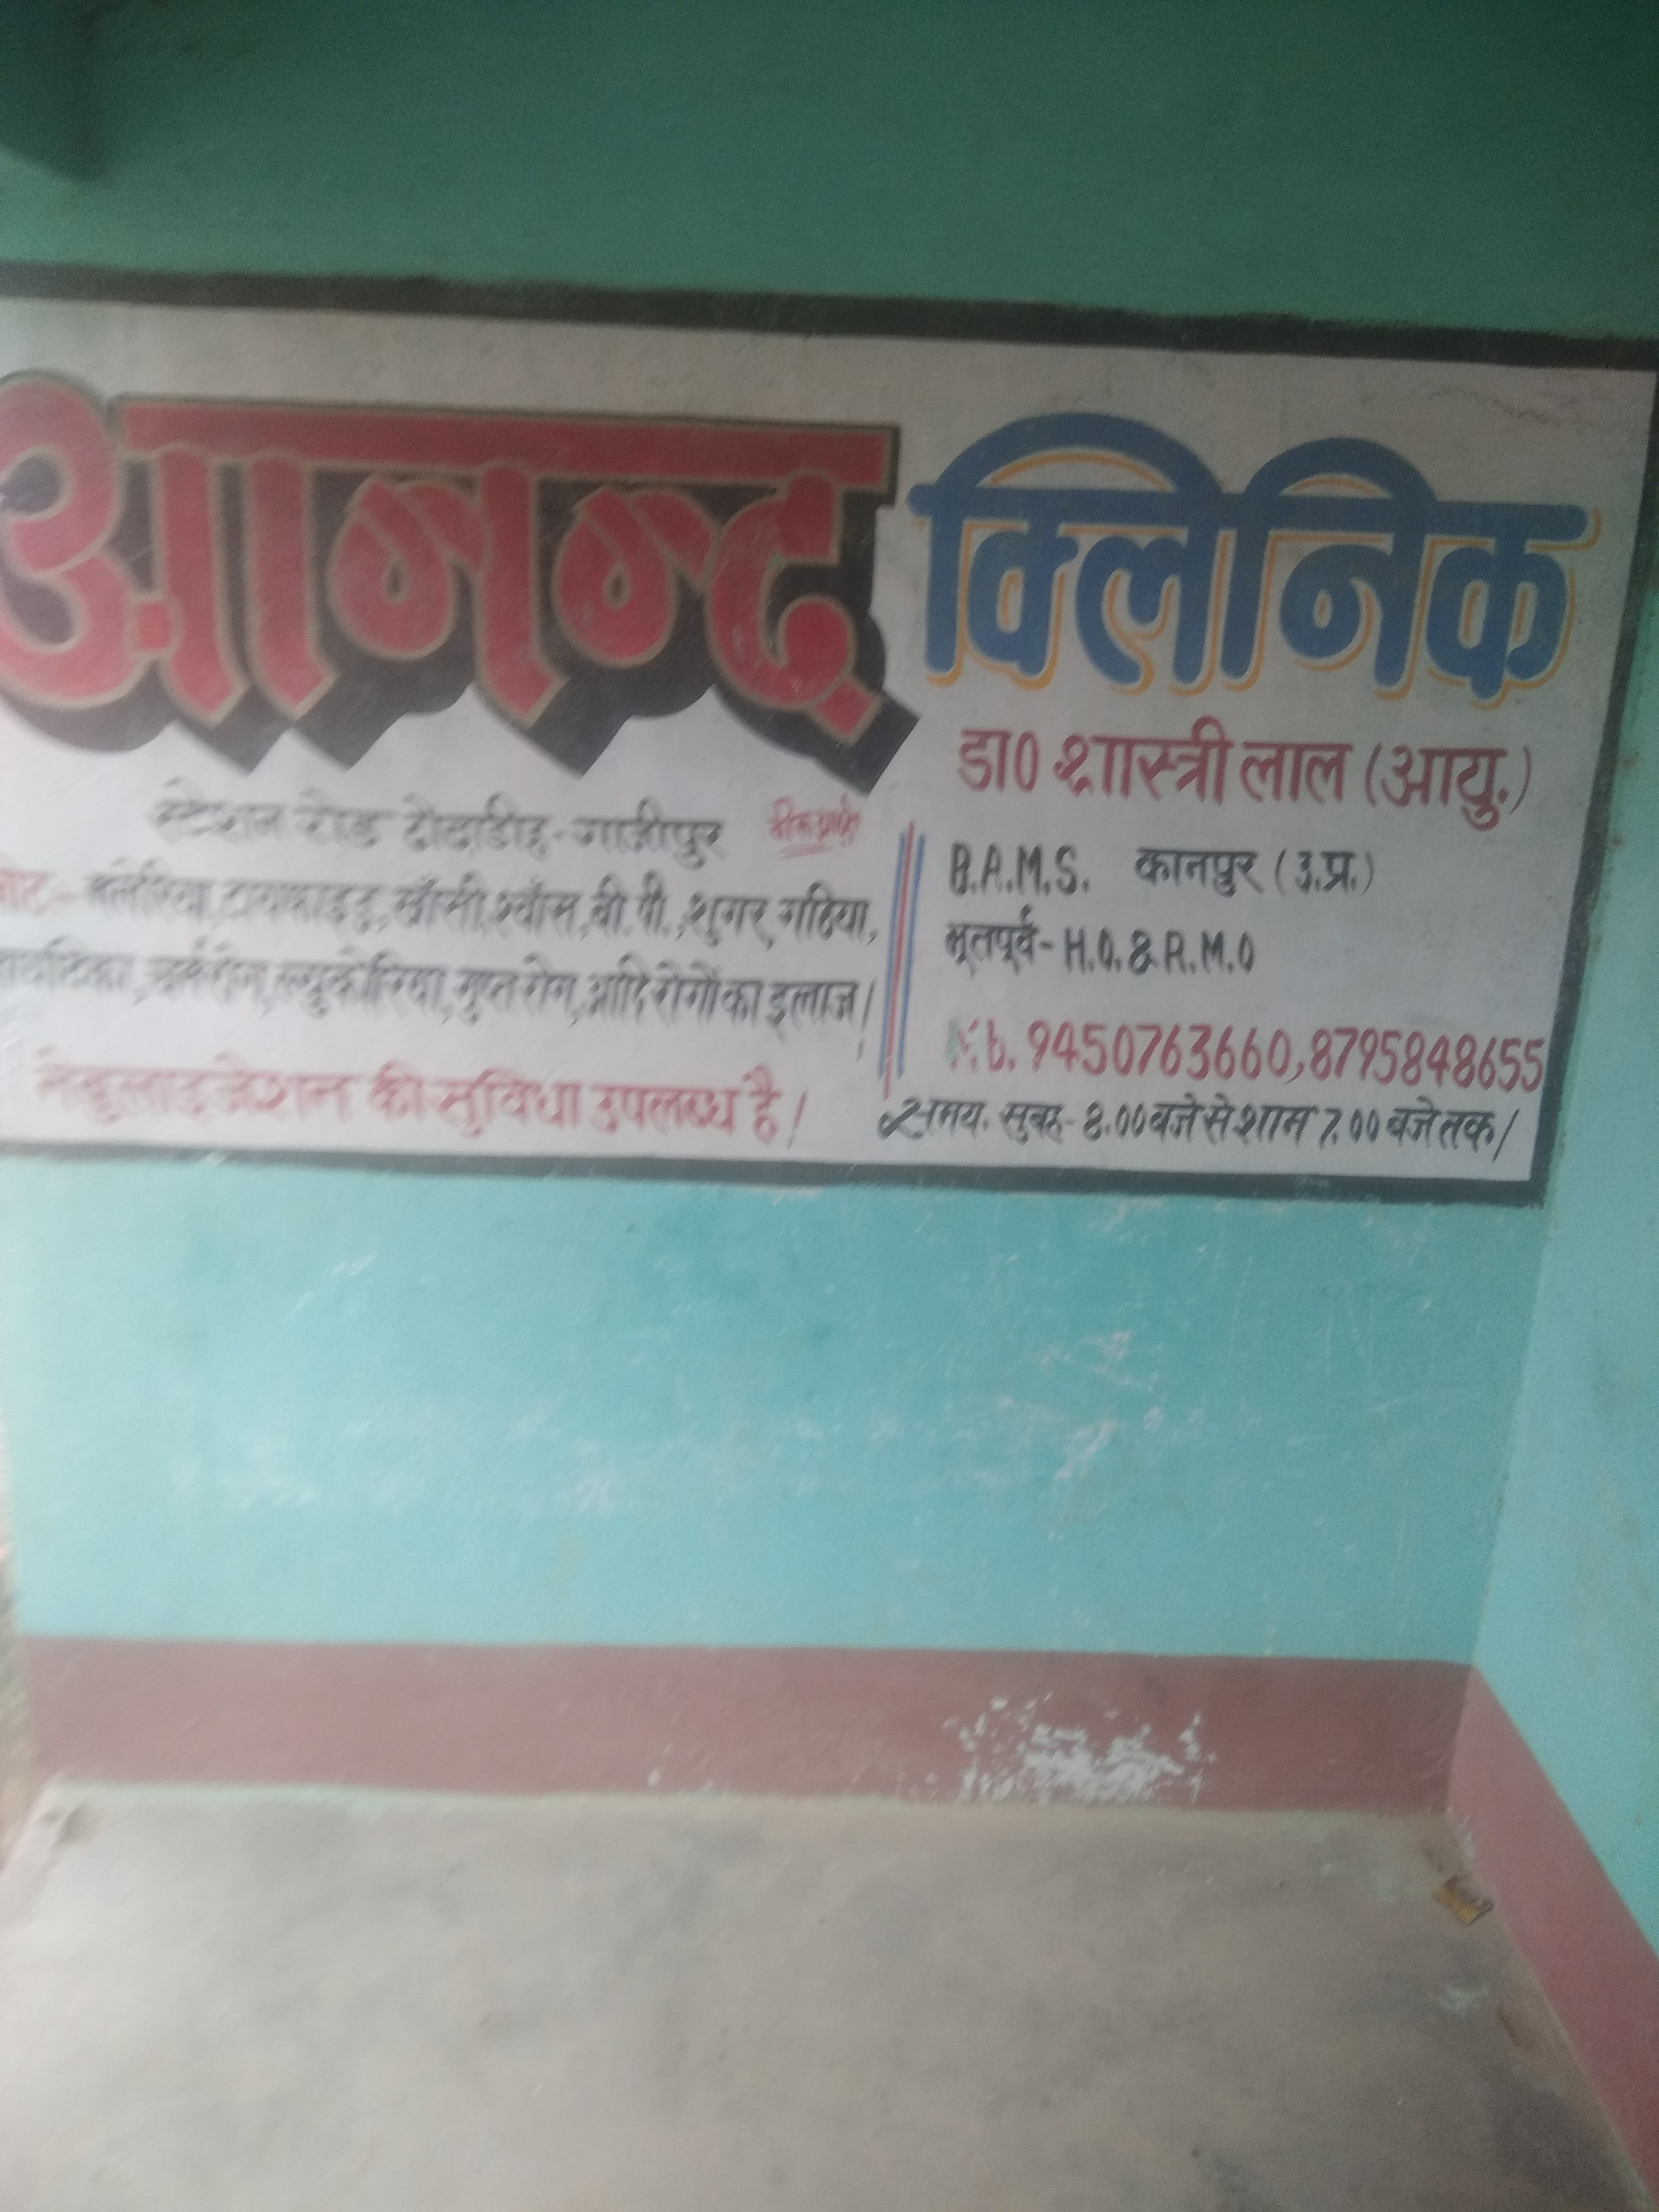text: (5, 256, 1659, 1214)
